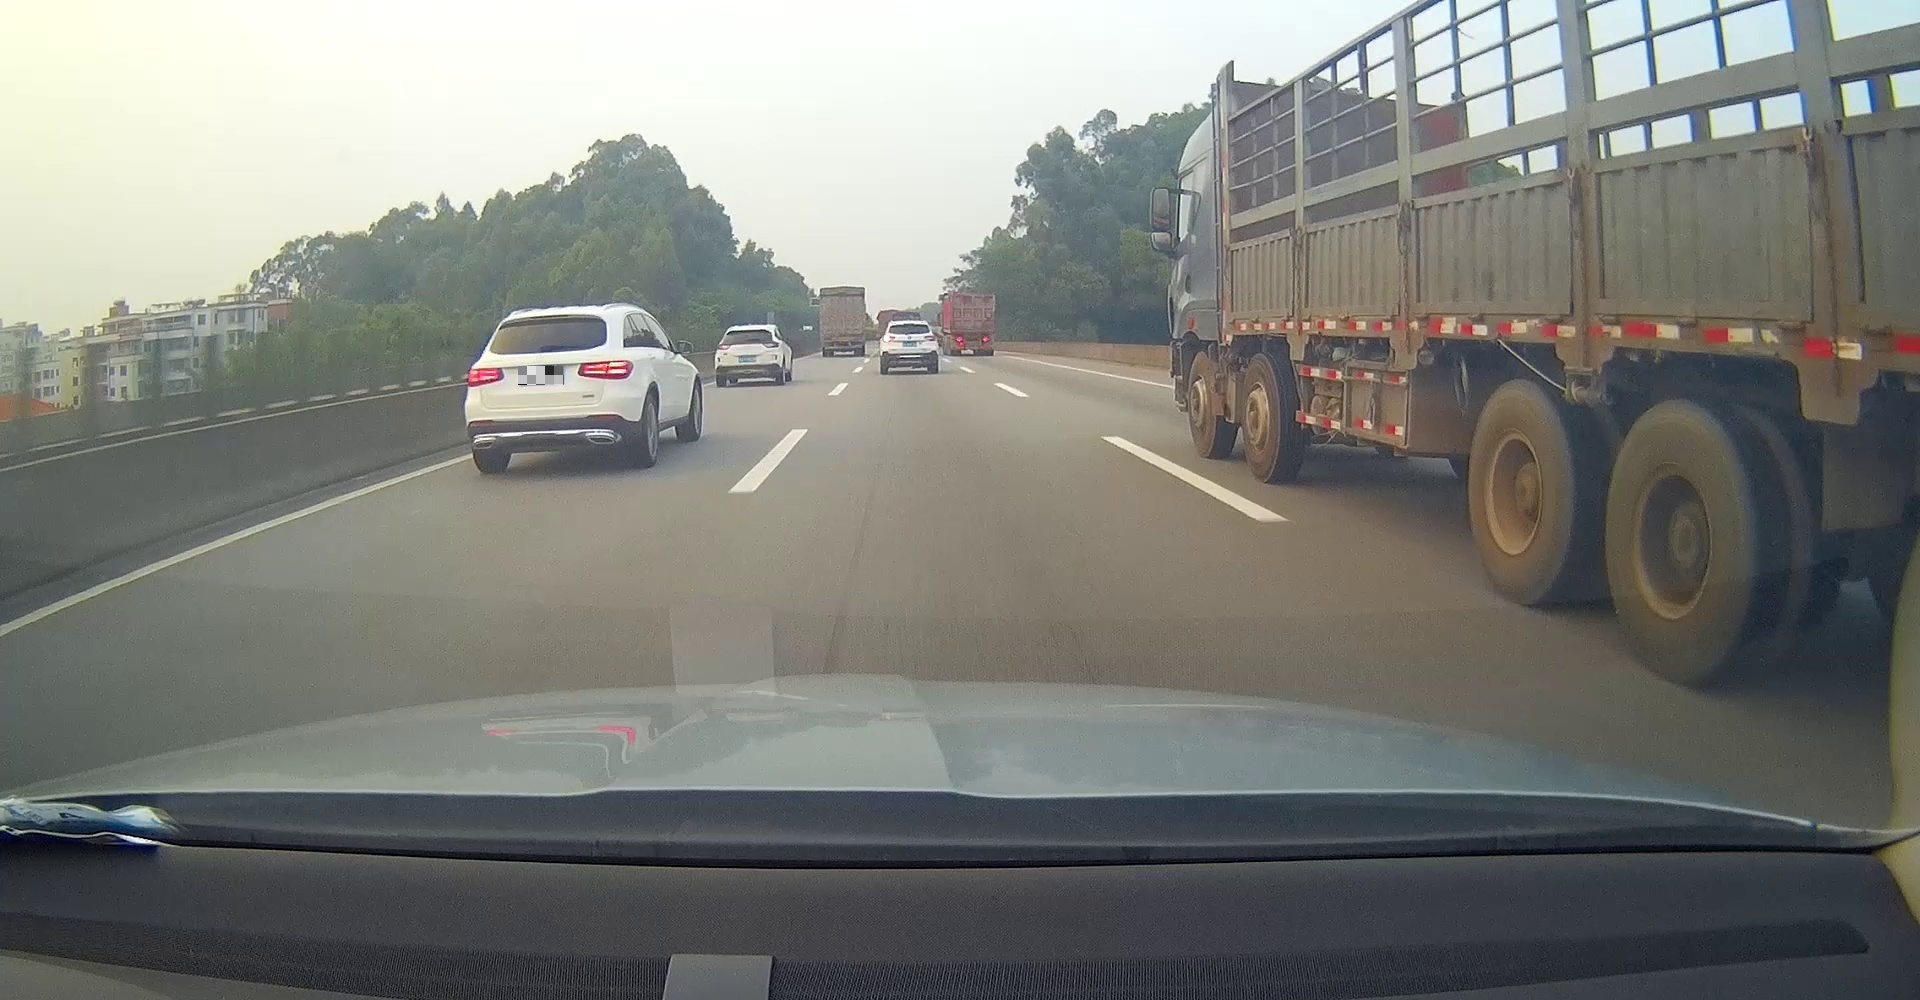L_light: (467, 369, 504, 387), (716, 344, 731, 350), (884, 336, 897, 341), (955, 336, 964, 341), (823, 336, 832, 340)
R_light: (578, 359, 632, 379), (762, 341, 778, 348), (924, 335, 935, 341), (982, 336, 990, 341), (853, 336, 861, 339)
T_light: (532, 315, 566, 320), (968, 294, 978, 299), (744, 329, 754, 332), (904, 324, 914, 326), (838, 288, 846, 291)
day-brake: (463, 307, 635, 475), (950, 293, 996, 357)
day-left: (879, 320, 938, 374)
day-no: (715, 325, 783, 386), (820, 286, 866, 357)
plate_1: (518, 365, 564, 385)
